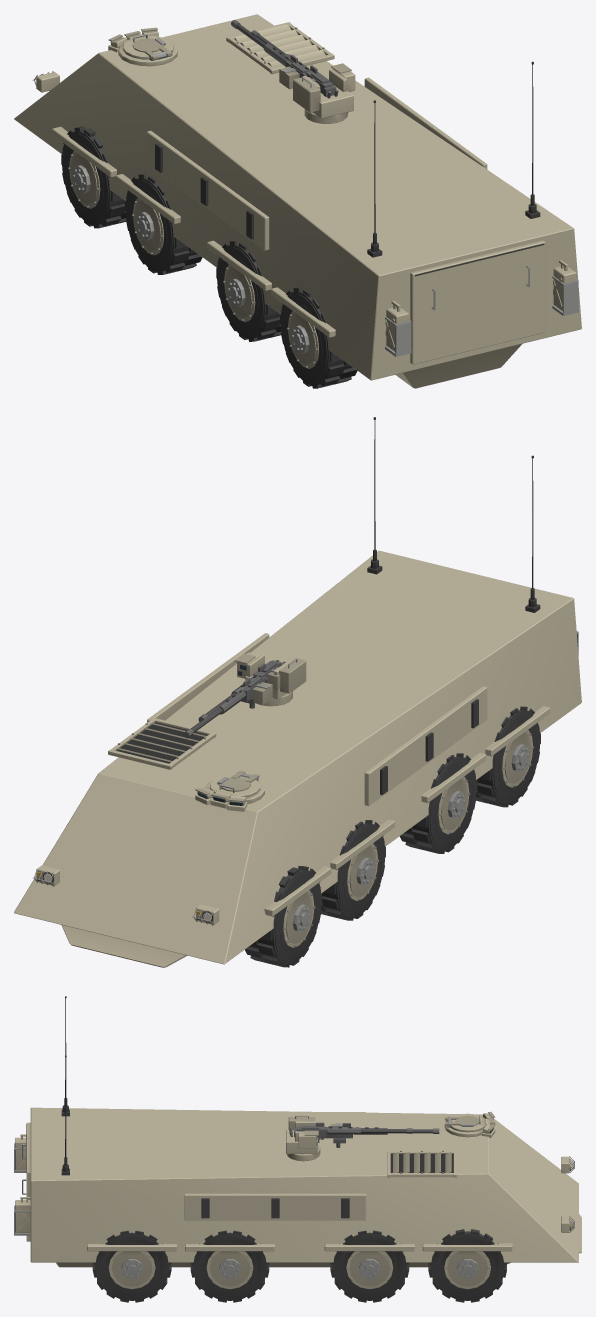
File: usa_apc_acvp.glb
3 views of the same model, one above another, from view 1: azimuth 30°, elevation 25°; view 2: azimuth 150°, elevation 25°; view 3: azimuth 270°, elevation 25° (orthographic). The views are drawn at different scales.
Parts seen in each view (by area): view 1: body, door, wheel_6, wheel_2, wheel_0, wheel_4, turret, barrel; view 2: body, wheel_0, wheel_4, wheel_6, wheel_2, turret, barrel; view 3: body, wheel_1, wheel_3, wheel_7, wheel_5, turret, barrel, door.
Part boxes in pixels (x1,y1,x2,y2): body: [14, 14, 581, 388]; door: [410, 240, 545, 364]; wheel_6: [280, 287, 357, 388]; wheel_2: [125, 174, 202, 274]; wheel_0: [61, 126, 126, 228]; wheel_4: [216, 241, 281, 341]; turret: [251, 30, 355, 123]; barrel: [231, 20, 307, 89]; body: [14, 417, 581, 967]; wheel_0: [245, 866, 322, 967]; wheel_4: [399, 753, 477, 853]; wheel_6: [475, 706, 540, 807]; wheel_2: [320, 820, 385, 920]; turret: [198, 652, 306, 721]; barrel: [183, 676, 272, 738]; body: [14, 996, 581, 1267]; wheel_1: [428, 1229, 506, 1302]; wheel_3: [330, 1230, 409, 1302]; wheel_7: [92, 1230, 171, 1302]; wheel_5: [190, 1230, 269, 1302]; turret: [286, 1115, 412, 1161]; barrel: [319, 1123, 439, 1147]; door: [22, 1122, 30, 1241].
Size of the model in its own units: 2.88 by 3.75 by 8.13.
